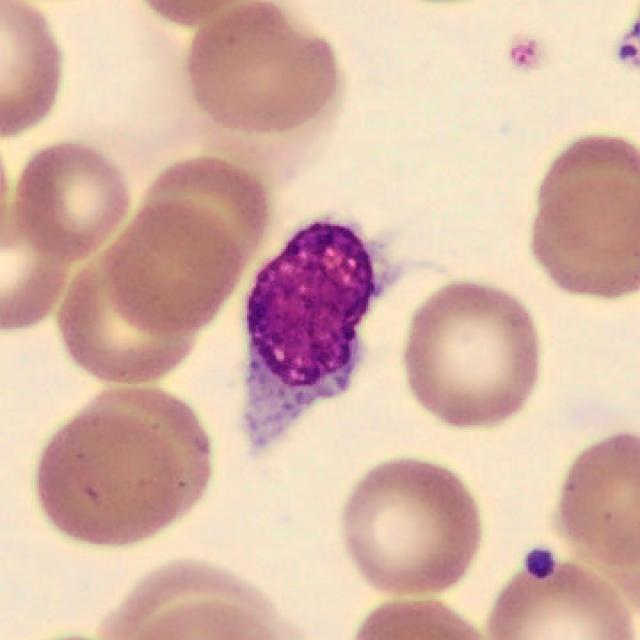Linfocito: (245, 220, 389, 446)
